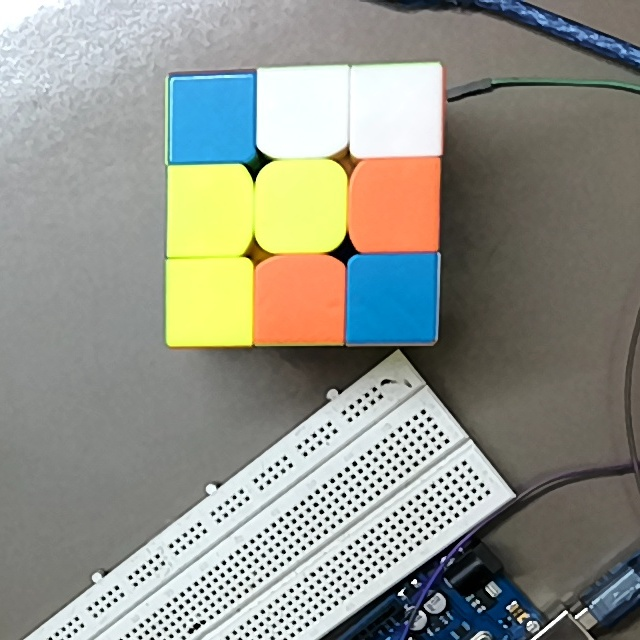tile: (174, 76, 248, 158), (171, 265, 247, 340), (357, 261, 430, 339), (365, 73, 436, 150), (265, 169, 336, 245), (362, 166, 431, 243), (172, 172, 240, 250), (263, 269, 338, 337), (269, 74, 337, 146)
